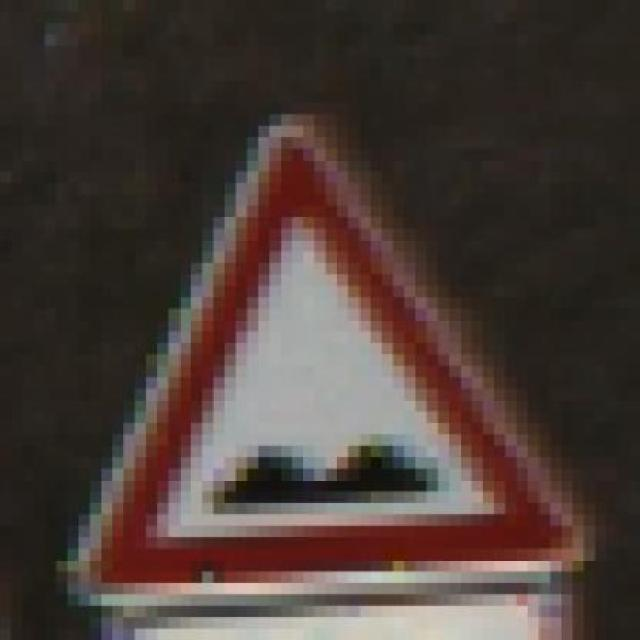Uneven Road: (67, 103, 607, 606)
